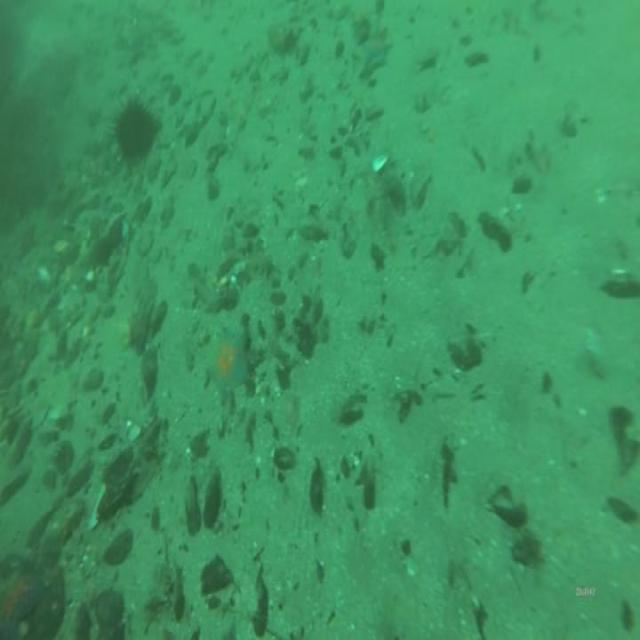echinus: (116, 102, 154, 160)
starfish: (0, 564, 43, 640), (207, 327, 250, 398)
